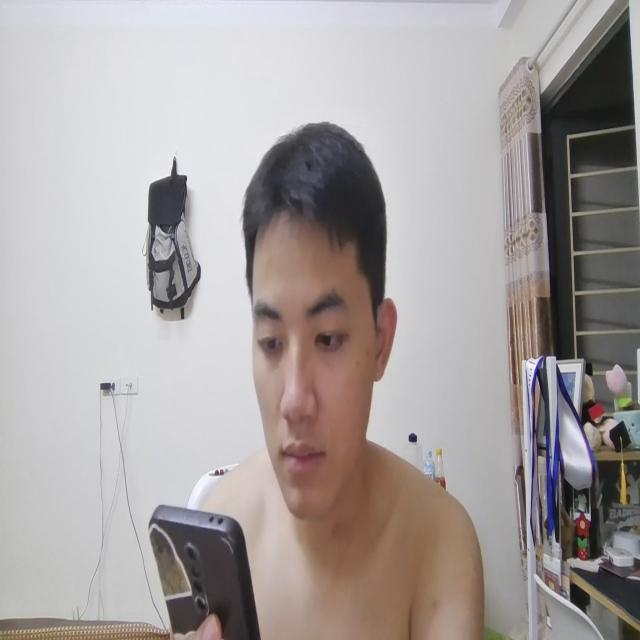phone: (143, 495, 270, 640)
student: (221, 115, 483, 639)
